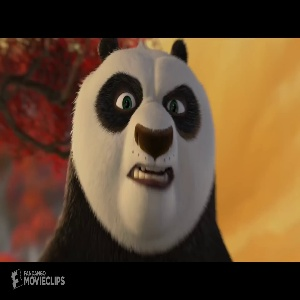po: (35, 39, 235, 259)
